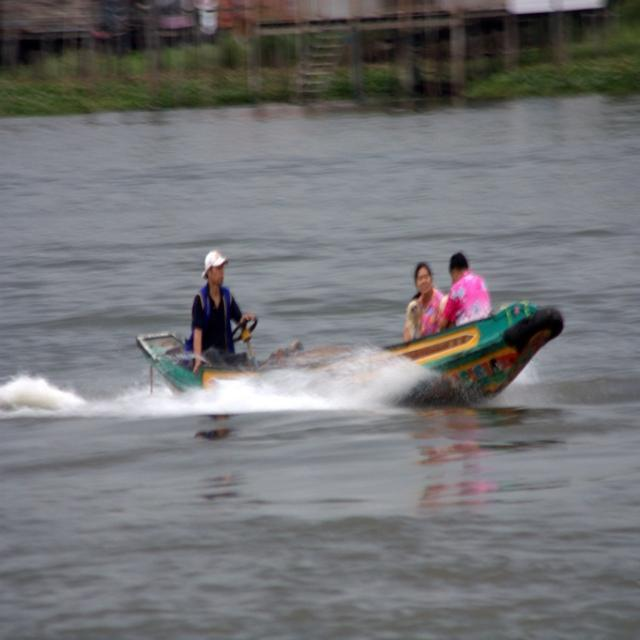boat: (131, 300, 574, 404)
